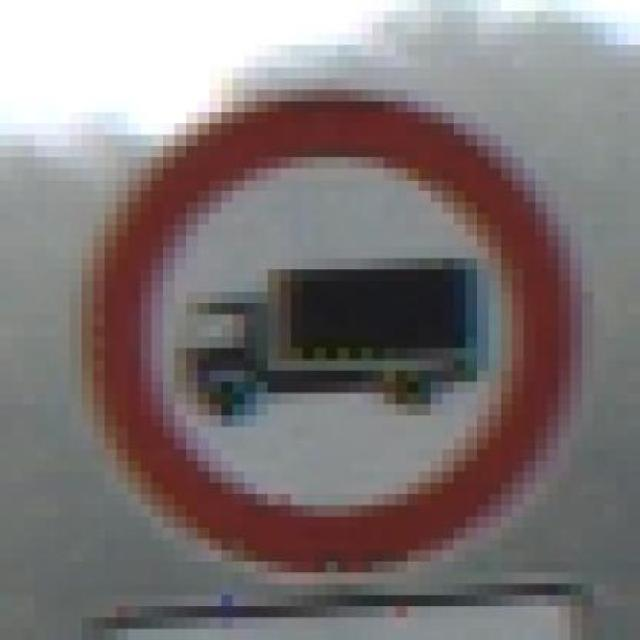Truck traffic is prohibited: (36, 57, 595, 574)
